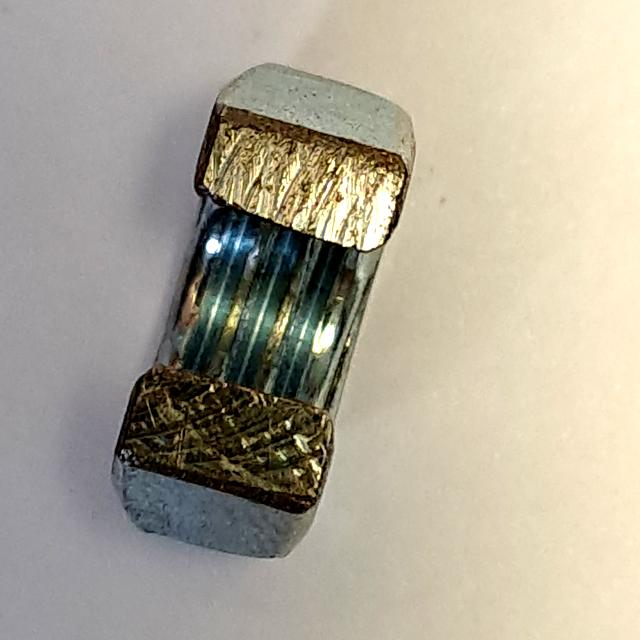Side-Fracture: (98, 51, 427, 576)
